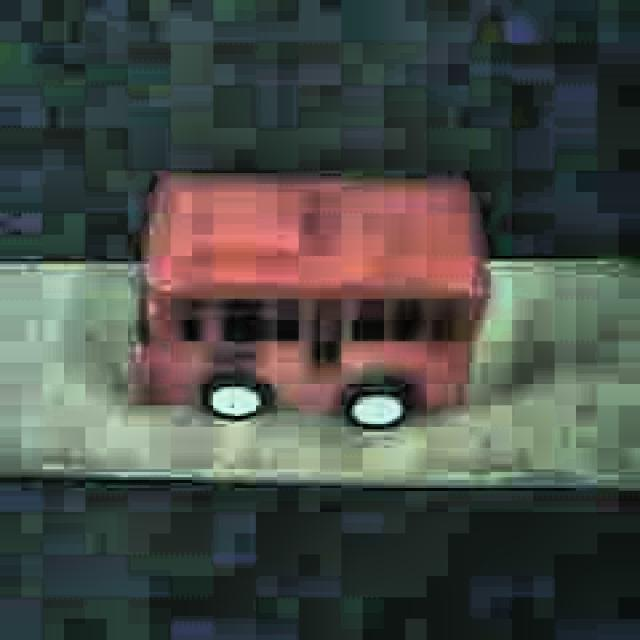bus: (123, 168, 492, 432)
